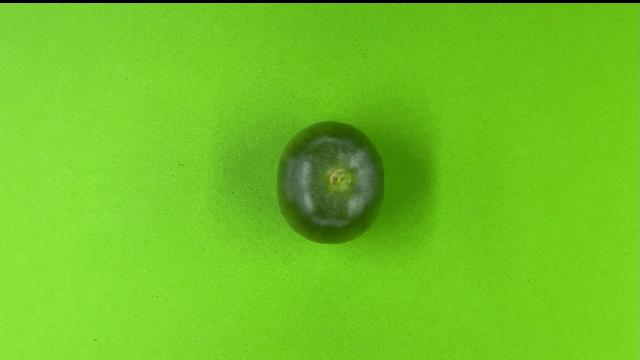Fruit Maturation: (273, 119, 388, 246)
